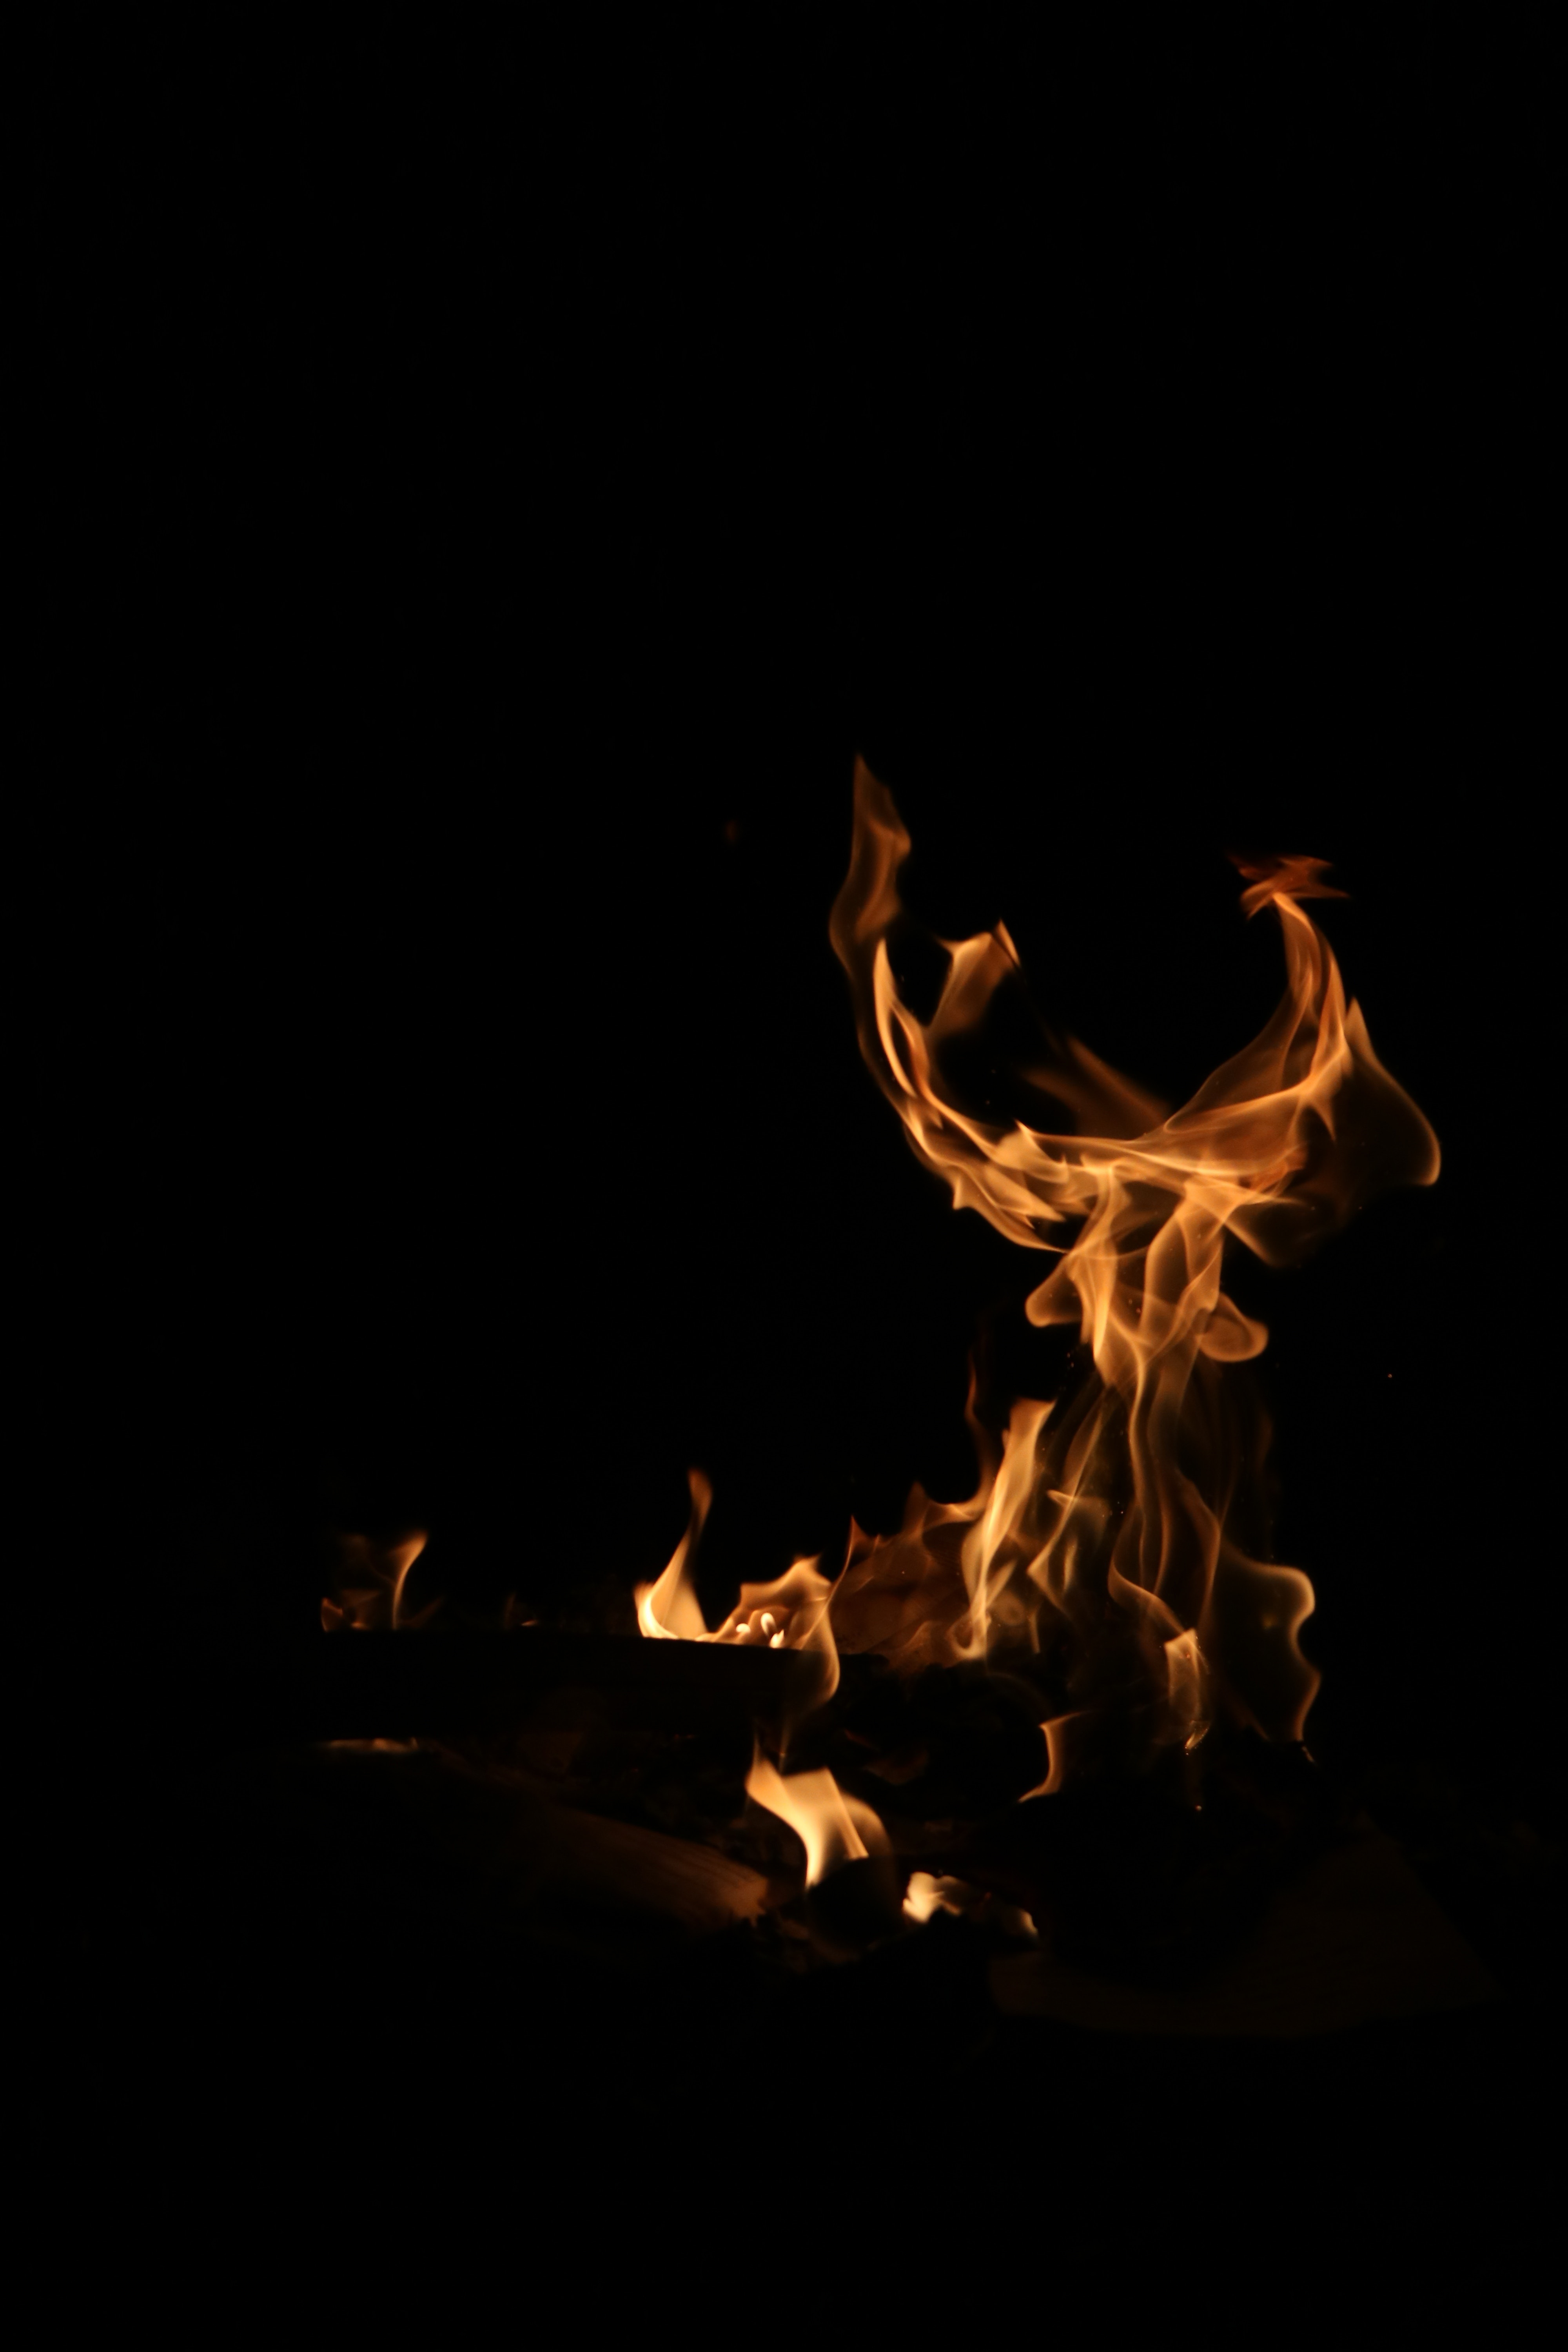fire: (614, 703, 1395, 1939)
